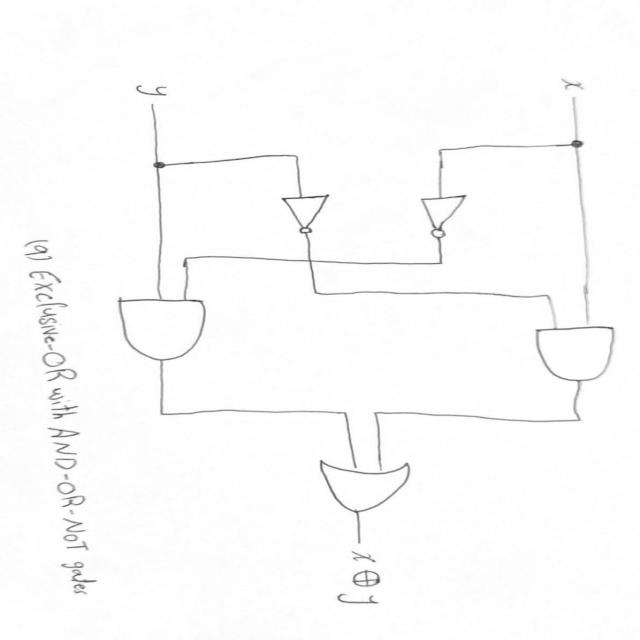AND: (104, 286, 227, 368), (506, 317, 629, 390)
NOT: (400, 191, 494, 244), (259, 185, 343, 241)
OR: (292, 458, 428, 518)
